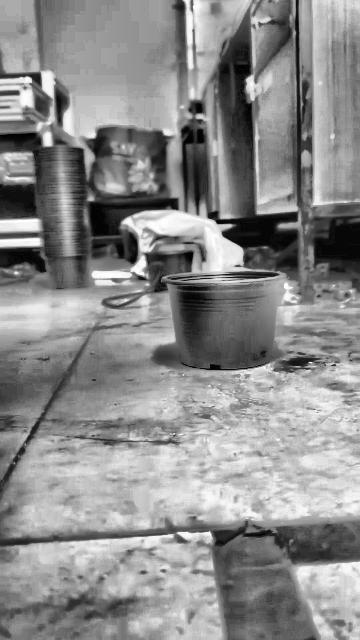pot: (163, 270, 283, 370)
